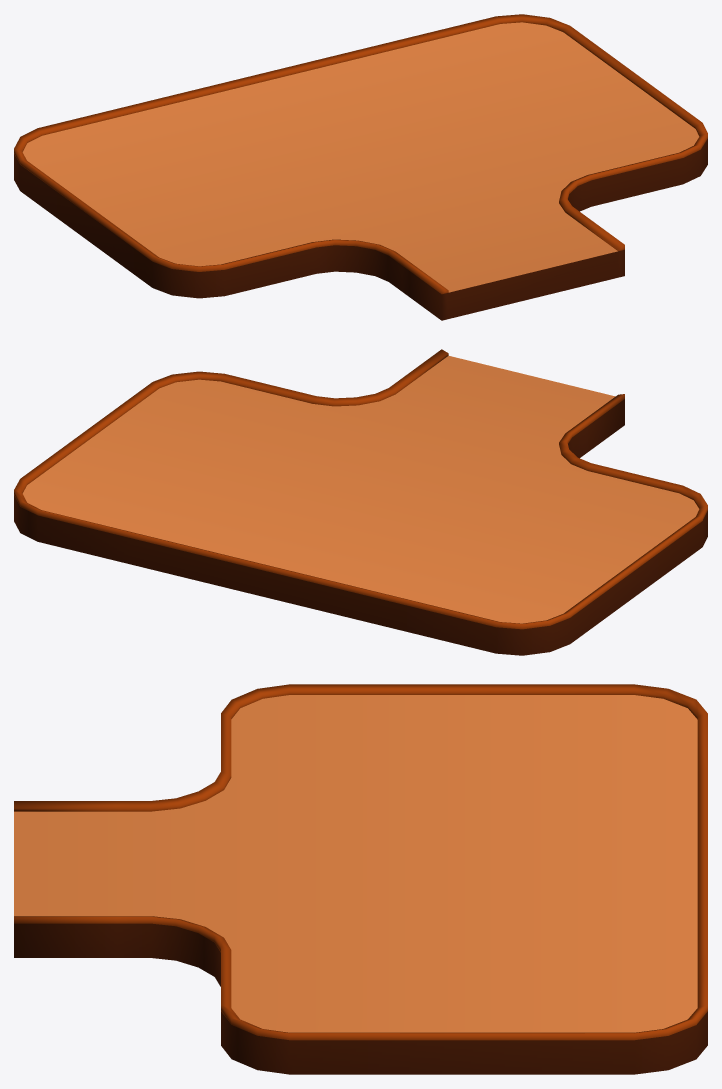
File: Path_BuildingEntrances.fbx
The picture shows the model from 3 angles, top to bottom: view 1: azimuth 30°, elevation 25°; view 2: azimuth 150°, elevation 25°; view 3: azimuth 270°, elevation 25°; orthographic projection. The views are drawn at different scales.
Parts seen in each view (by area): view 1: Path_BuildingEntrances; view 2: Path_BuildingEntrances; view 3: Path_BuildingEntrances.
Part boxes in pixels (left/top/right/bottom): Path_BuildingEntrances: left=14, top=14, right=707, bottom=320; Path_BuildingEntrances: left=14, top=349, right=707, bottom=655; Path_BuildingEntrances: left=14, top=684, right=707, bottom=1074.
Bounding box in the file's own units: 1200 × 65 × 1007.
Materials: 1 (1 with a texture image).
